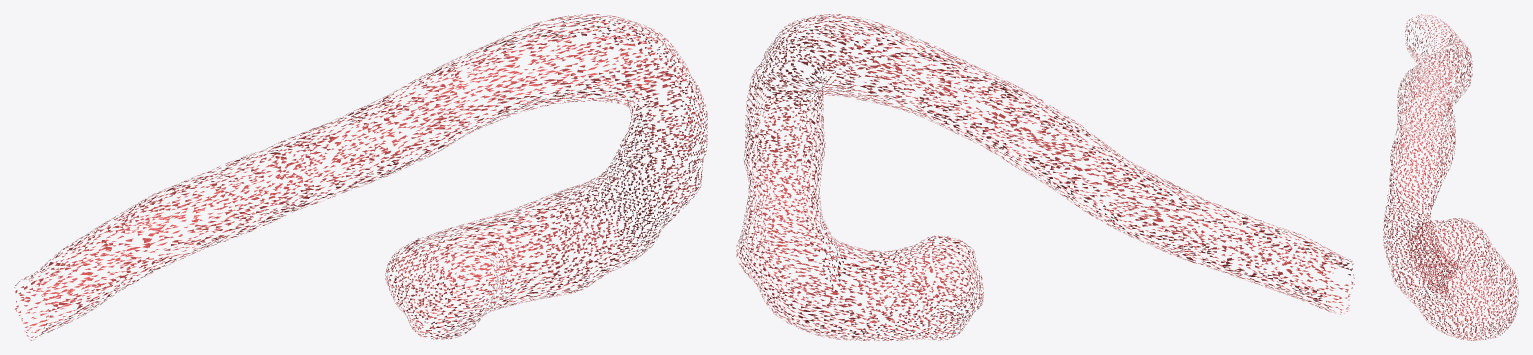
File: aorta.glb
The picture shows the model from 3 angles, left to right: view 1: azimuth 30°, elevation 25°; view 2: azimuth 150°, elevation 25°; view 3: azimuth 270°, elevation 25°; orthographic projection. The views are drawn at different scales.
Size of the model in its own units: 223 by 98.94 by 54.45.
